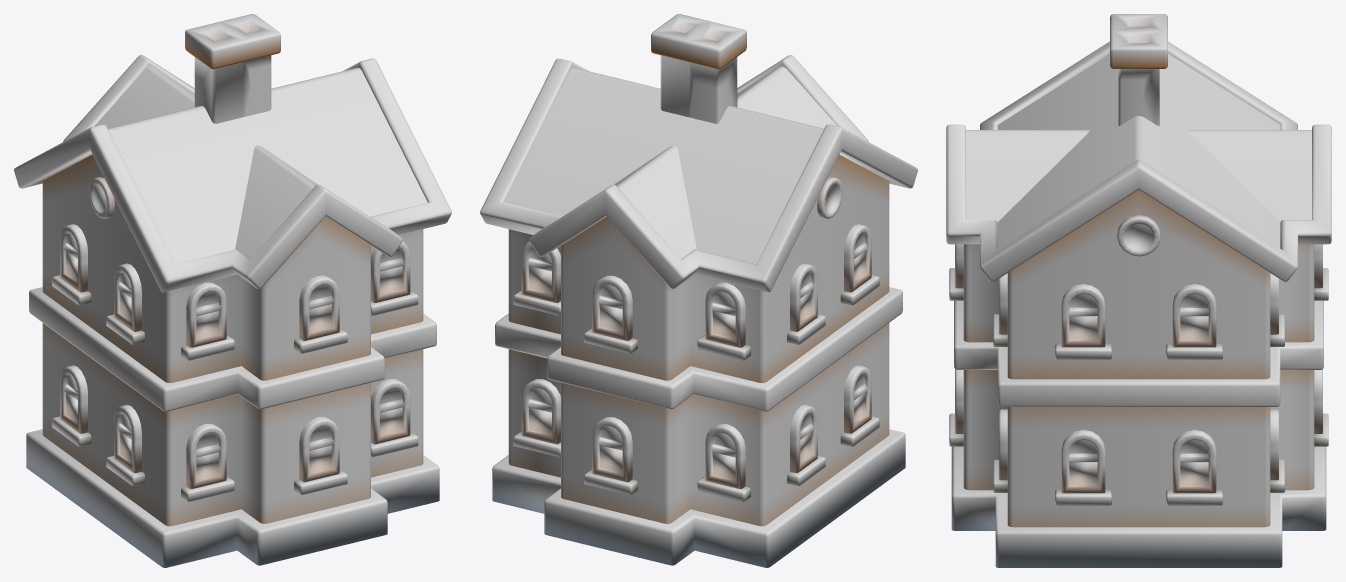
File: Building_046.fbx
The picture shows the model from 3 angles, left to right: view 1: azimuth 30°, elevation 25°; view 2: azimuth 150°, elevation 25°; view 3: azimuth 270°, elevation 25°; orthographic projection. The views are drawn at different scales.
Visible parts, largest first — view 1: Building_046; view 2: Building_046; view 3: Building_046.
Part boxes in pixels (box(x1,y1,x2,y2)): Building_046: box(14, 14, 451, 567); Building_046: box(480, 14, 917, 567); Building_046: box(946, 14, 1331, 567).
Bounding box in the file's own units: 780 × 880 × 1178.
